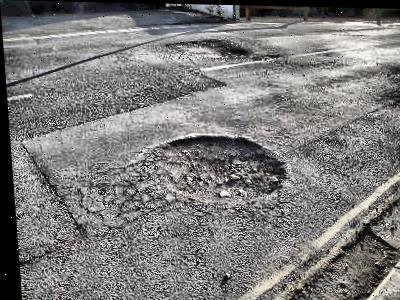pothole: (143, 130, 287, 202), (271, 221, 400, 300), (159, 34, 249, 60)
